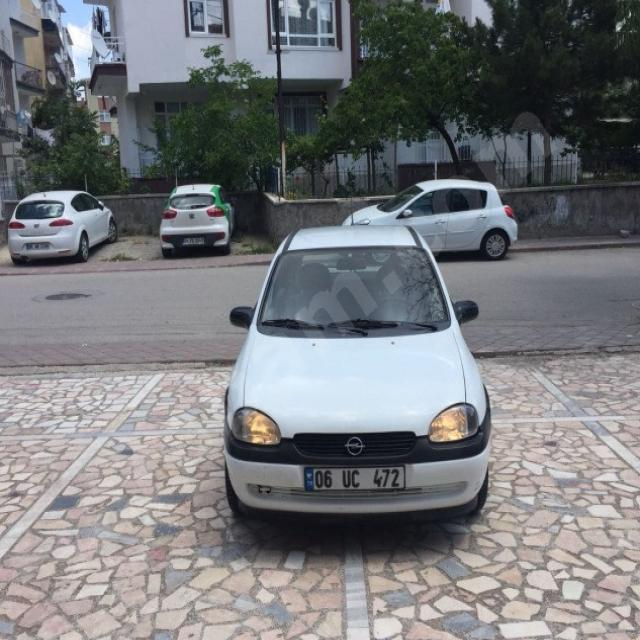license_plate: (304, 465, 406, 491)
